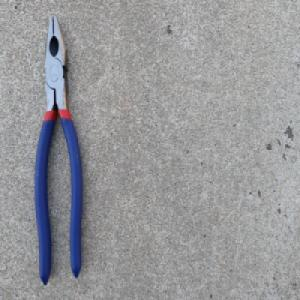Pliers: (33, 12, 84, 286)
